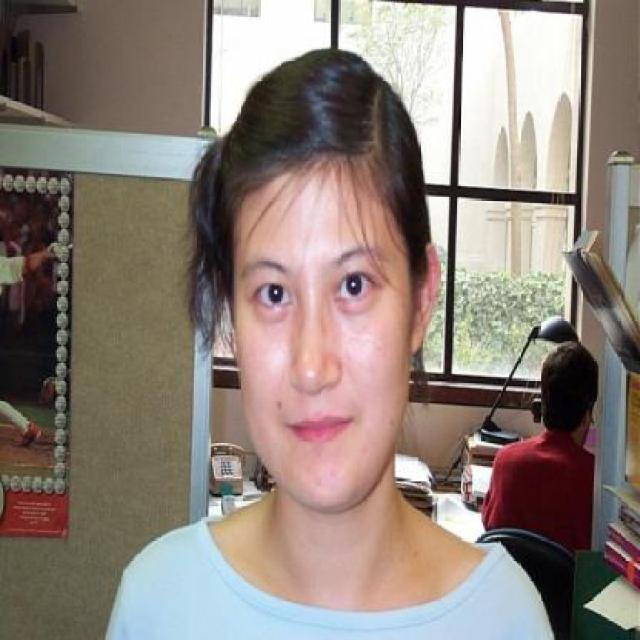awake: (253, 281, 293, 310), (334, 272, 372, 300)
